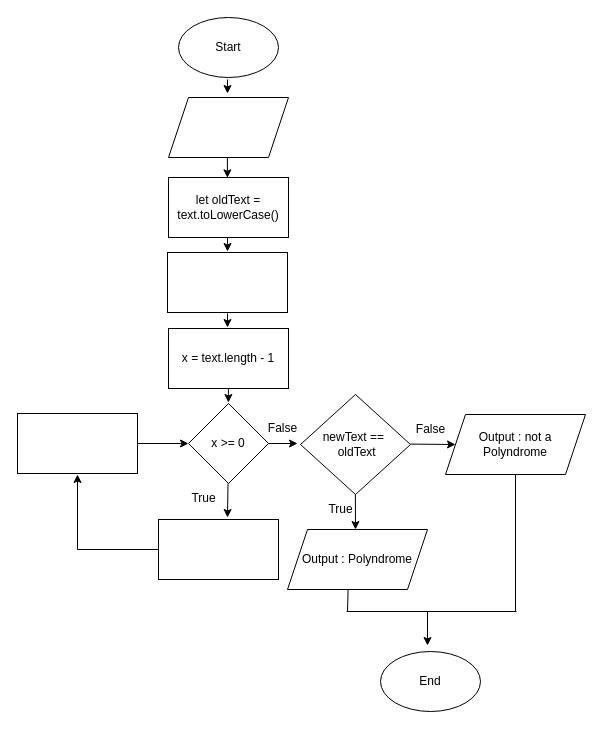
The diagram is 603 pixels wide and 729 high, and some of its shapes have lost their labels. Each missing label, with the centre of its shape:
Input text: the point at 228,127
let newText = (''): the point at 227,282
newText = newText + oldText[x]: the point at 218,549
x = x-1: the point at 77,443
